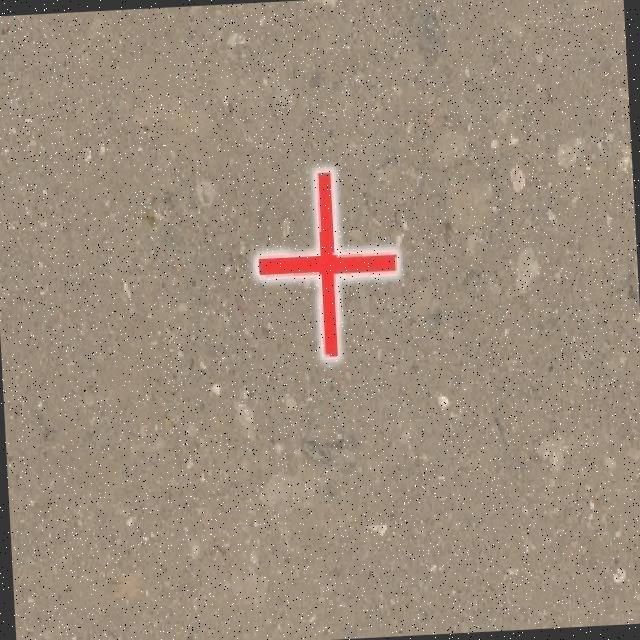x_marker: (252, 168, 401, 359)
